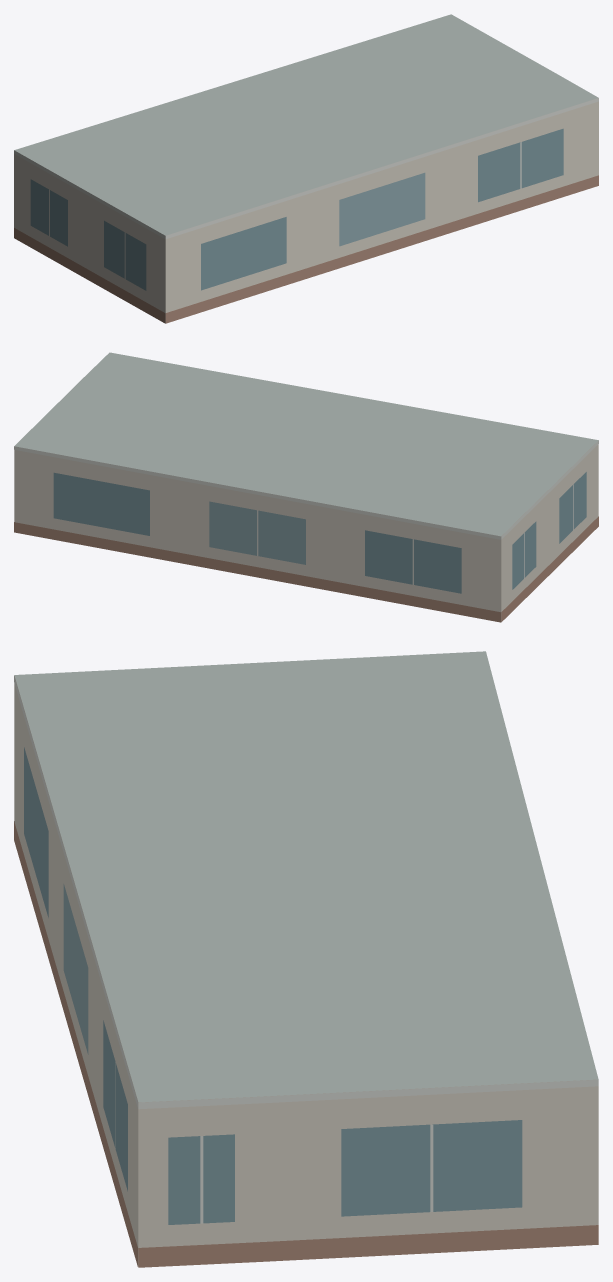
The model's file is survey-upis-32933607.glb.
The picture shows the model from 3 angles, top to bottom: view 1: azimuth 30°, elevation 25°; view 2: azimuth 150°, elevation 25°; view 3: azimuth 270°, elevation 25°; orthographic projection. The views are drawn at different scales.
Parts seen in each view (by area): view 1: survey-upis-32933607.tmp; view 2: survey-upis-32933607.tmp; view 3: survey-upis-32933607.tmp.
Boxes of the visible parts, <box> form: survey-upis-32933607.tmp: <box>14,14,598,323</box>; survey-upis-32933607.tmp: <box>14,352,598,622</box>; survey-upis-32933607.tmp: <box>14,651,598,1267</box>.
Size of the model in its own units: 17.88 by 3.05 by 9.79.
